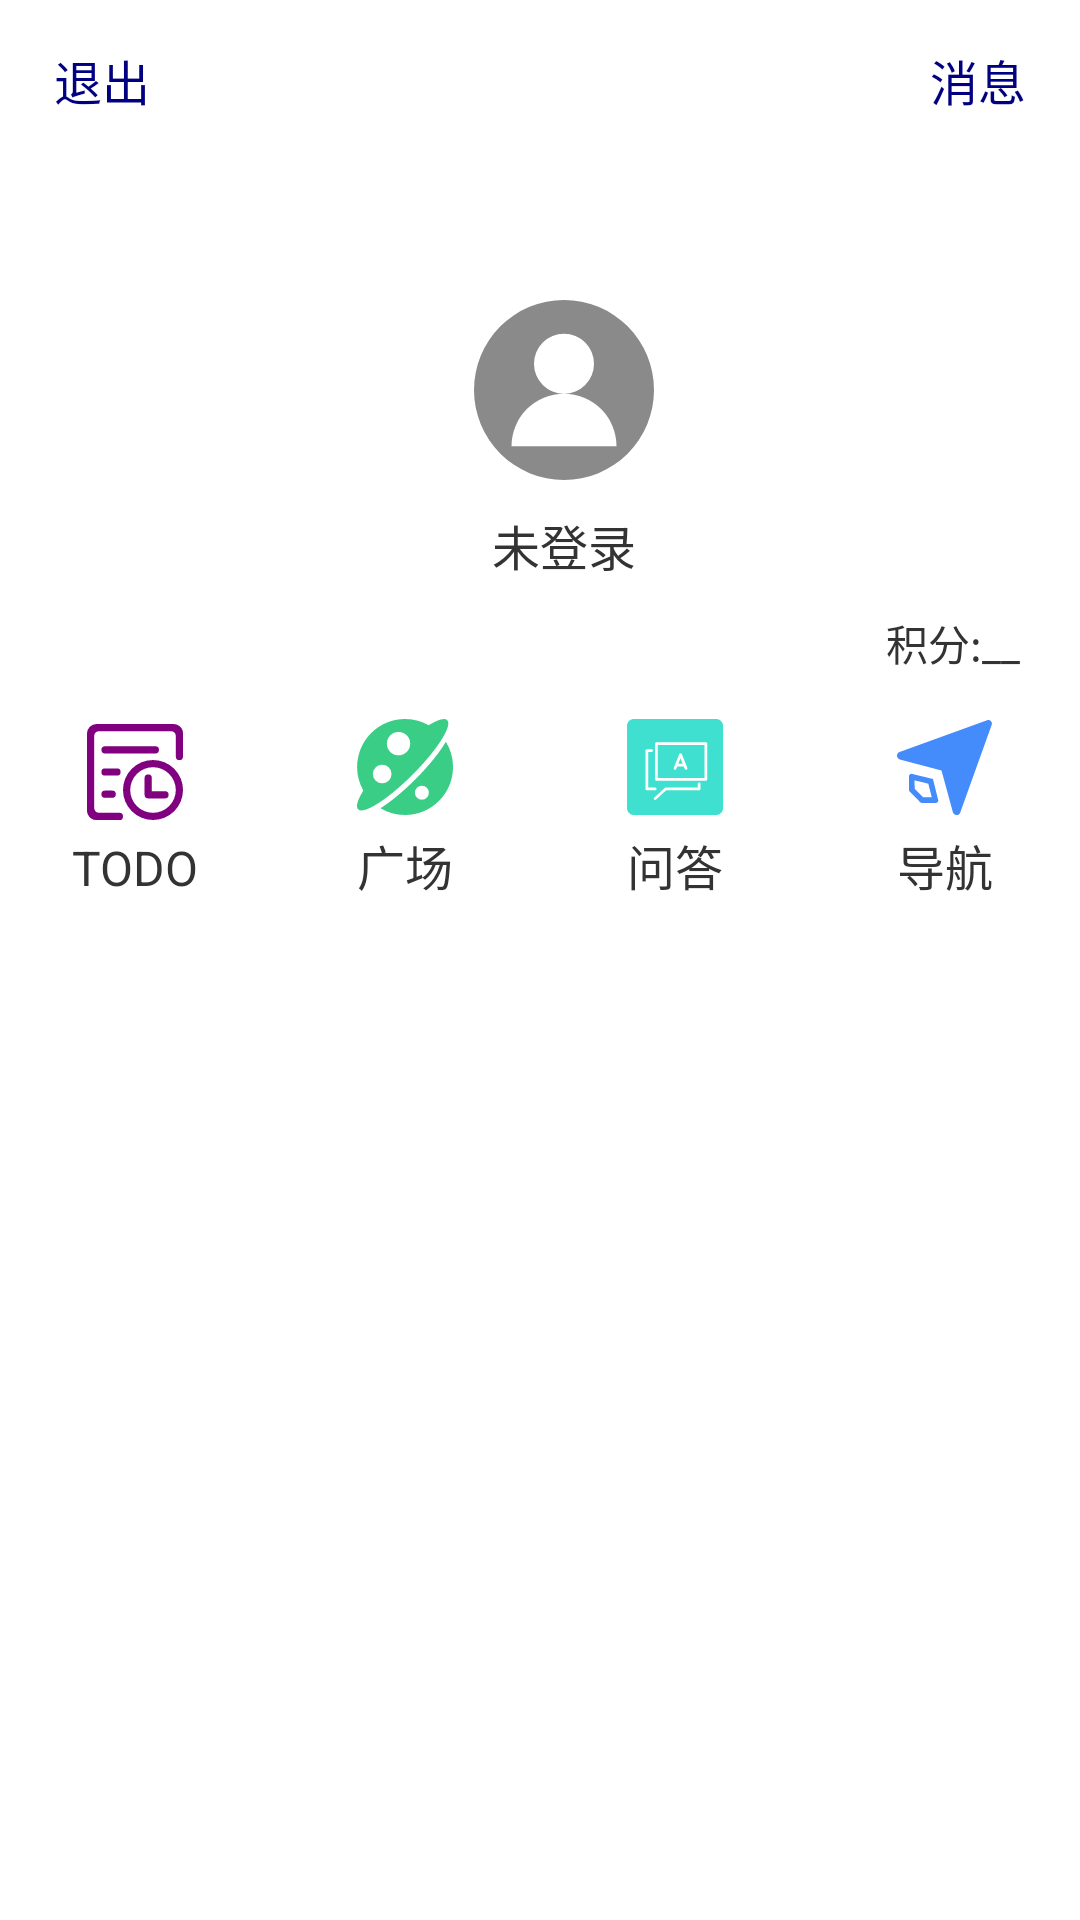

Point at icon controls on the screen. Image size 1080 x 1920, points as (x,y).
user: (564,390)
